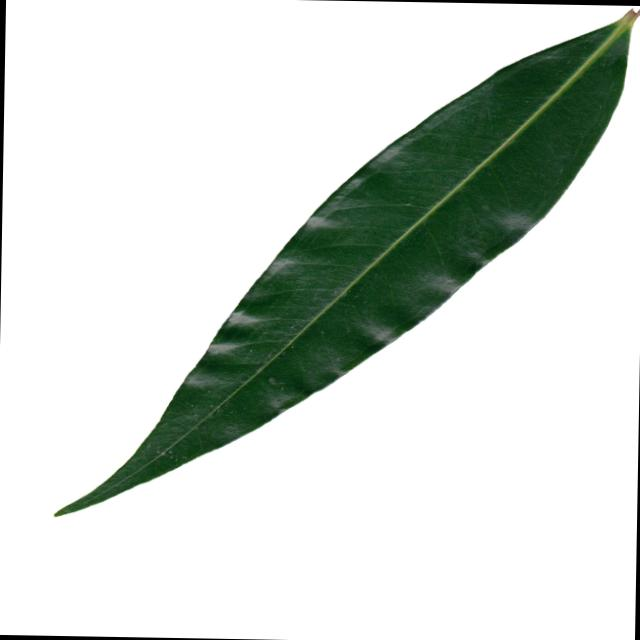Medicinal-Rose Apple: (52, 0, 640, 527)
